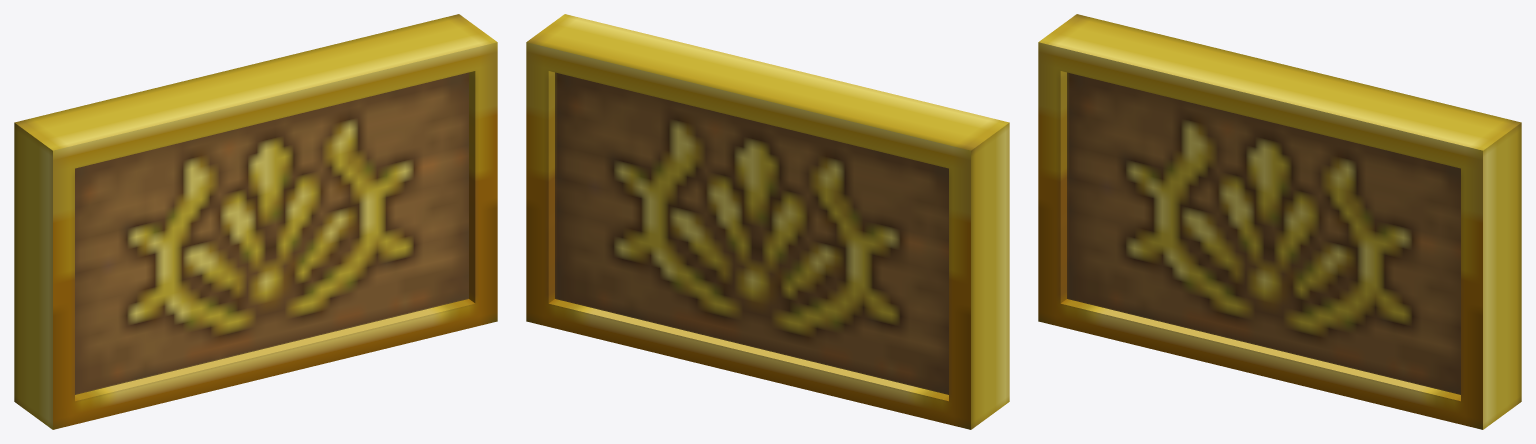
The model's file is Poly_Board_Sign_14.obj.
The picture shows the model from 3 angles, left to right: view 1: azimuth 30°, elevation 25°; view 2: azimuth 150°, elevation 25°; view 3: azimuth 330°, elevation 25°; orthographic projection.
Parts seen in each view (by area): view 1: Cube; view 2: Cube; view 3: Cube.
Part boxes in pixels (x1=…): Cube: x1=14, y1=14, x2=497, y2=429; Cube: x1=526, y1=14, x2=1009, y2=429; Cube: x1=1038, y1=14, x2=1521, y2=429.
Bounding box in the file's own units: 1 × 0.6 × 0.15.
1 material, 1 textured.
